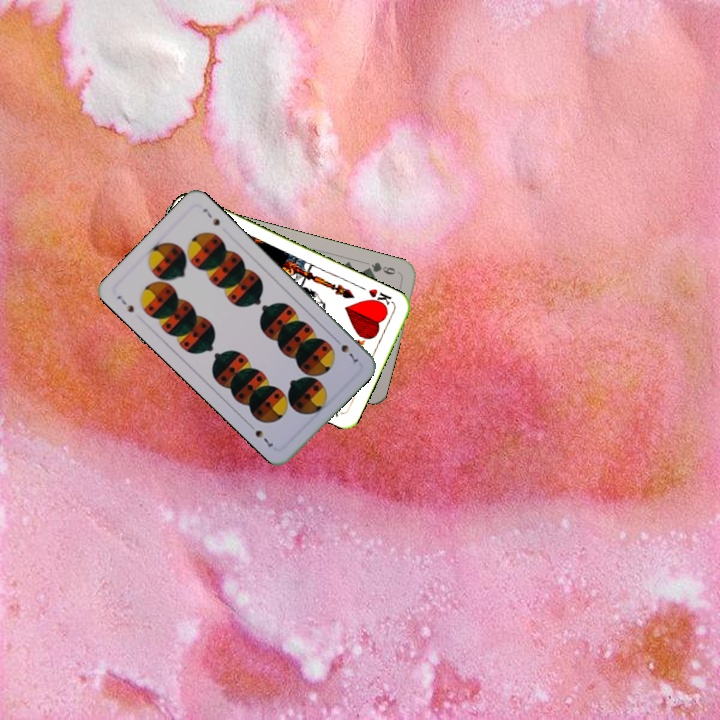G9: (361, 258, 402, 277)
HK: (364, 285, 396, 311)
S7: (330, 334, 363, 367), (113, 291, 137, 315)
